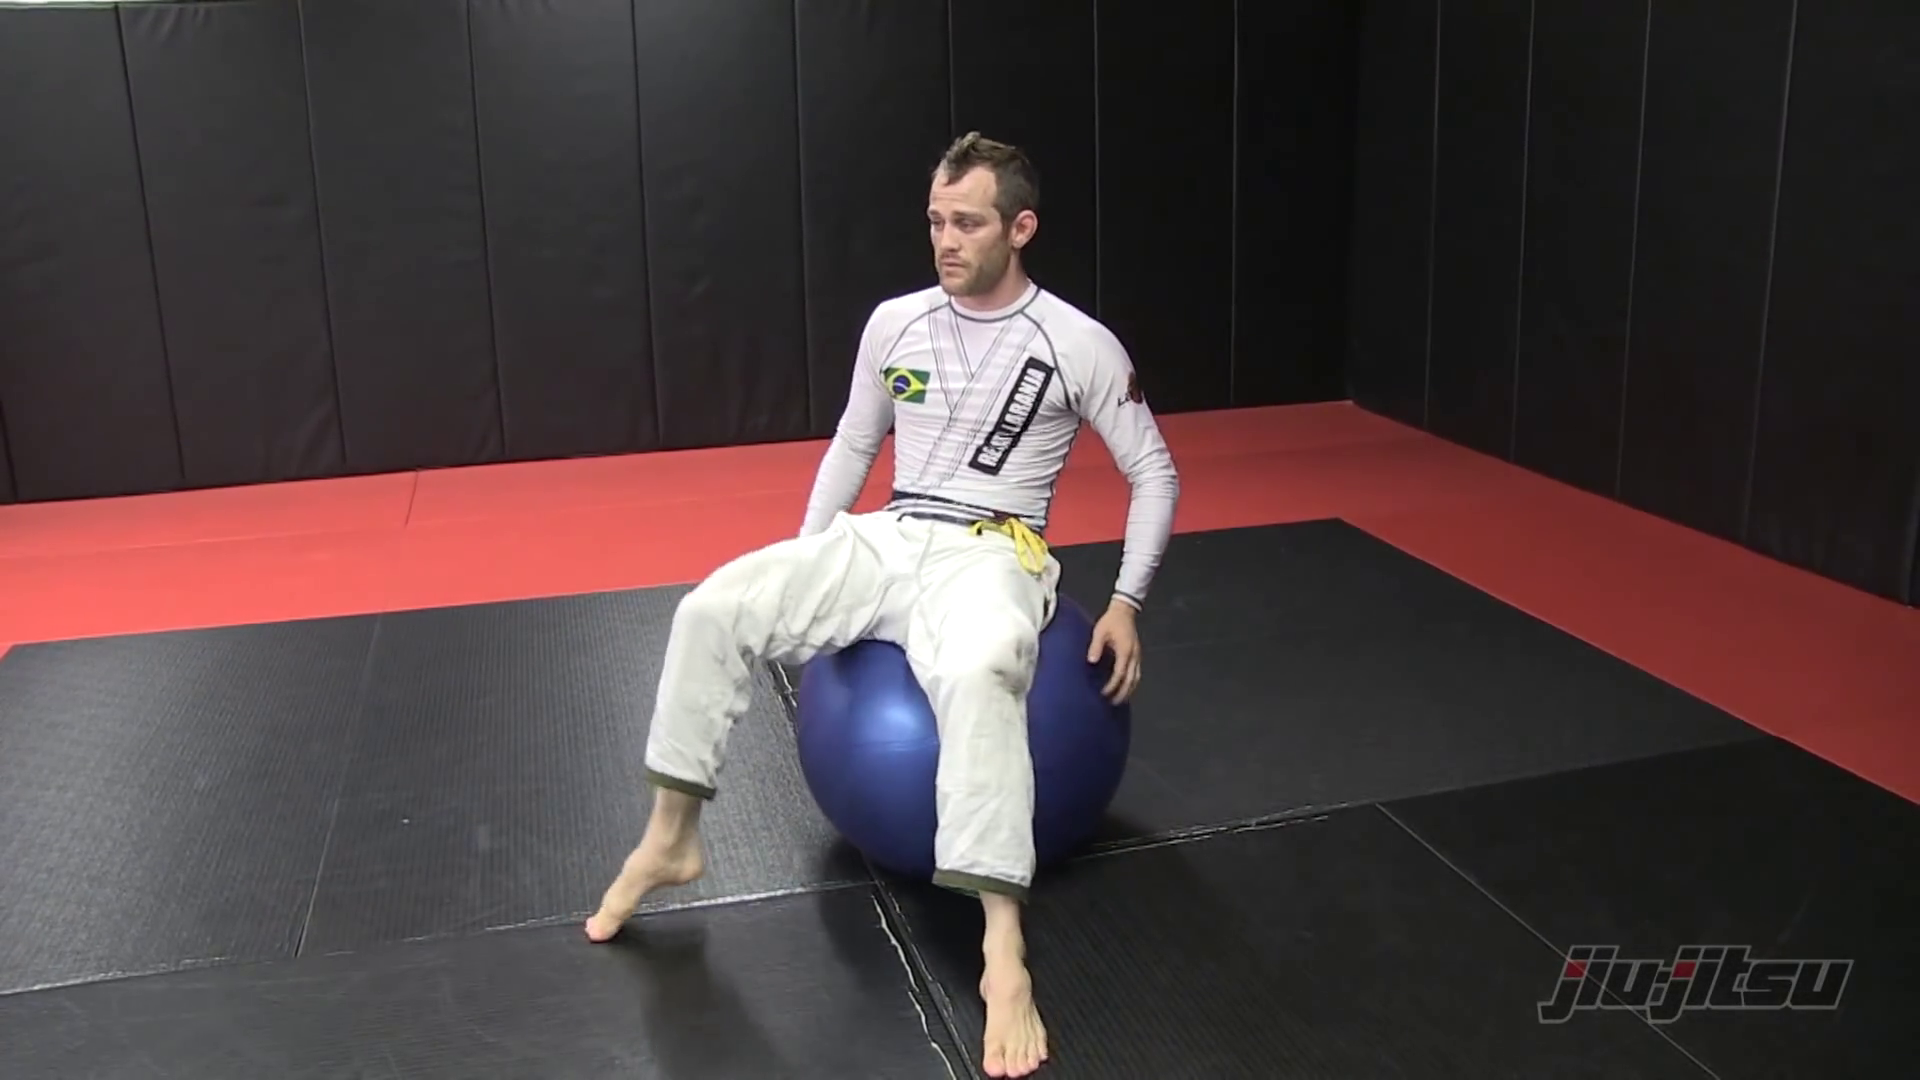yogaball: (778, 560, 1174, 897)
